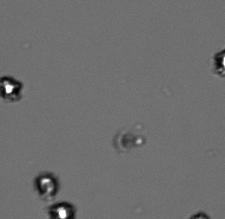Dead Cell: (114, 128, 138, 151)
Living Cell: (1, 74, 25, 104), (34, 171, 59, 197), (50, 201, 76, 218)
